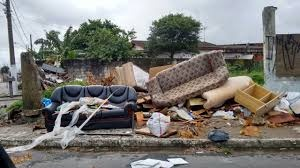rubble: (60, 68, 293, 132)
